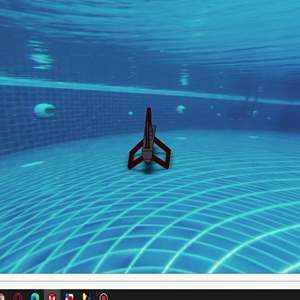submarine: (124, 108, 173, 166)
